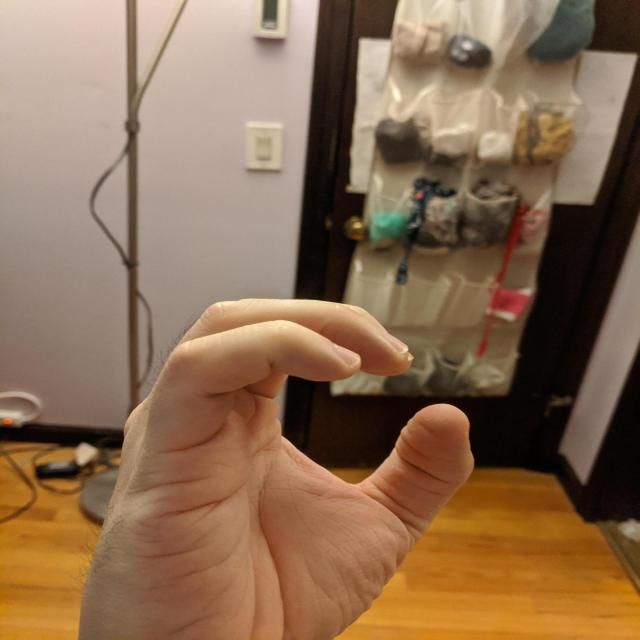C: (71, 292, 486, 640)
